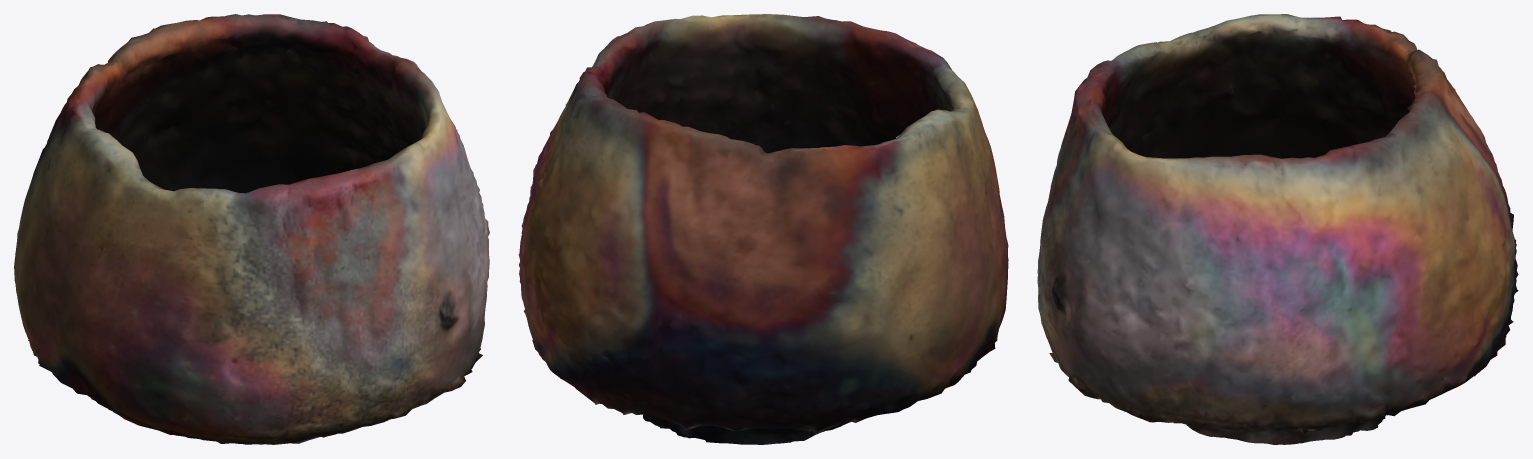
Rendered from Raku.obj.
3 renders of one model, left to right at view 1: azimuth 30°, elevation 25°; view 2: azimuth 150°, elevation 25°; view 3: azimuth 270°, elevation 25°, orthographic. The views are drawn at different scales.
Size of the model in its own units: 0.1329 by 0.098 by 0.1331.
1 material, 1 textured.
